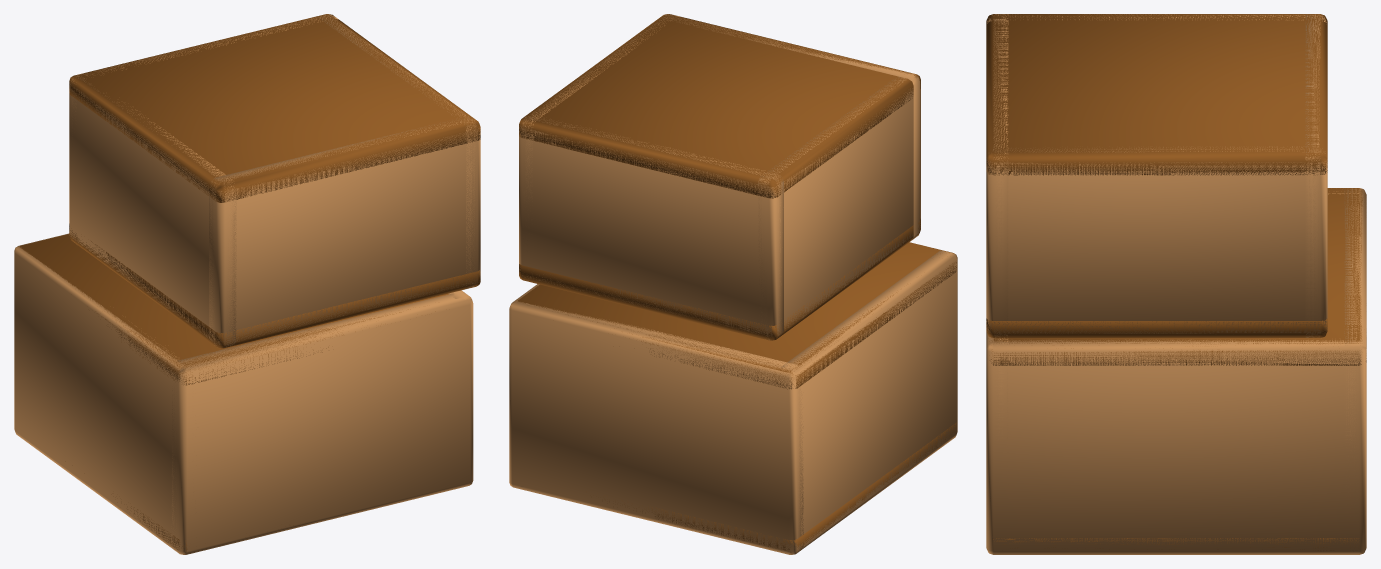
Rendered from v_crate_stack.glb.
3 renders of one model, left to right at view 1: azimuth 30°, elevation 25°; view 2: azimuth 150°, elevation 25°; view 3: azimuth 270°, elevation 25°, orthographic. The views are drawn at different scales.
Visible parts, largest first — view 1: GenCrate; view 2: GenCrate; view 3: GenCrate.
Boxes of the visible parts, x1,y1,x2,y2 form: GenCrate: (14, 14, 480, 554); GenCrate: (509, 14, 957, 554); GenCrate: (986, 14, 1366, 554).
Bounding box in the file's own units: 0.8 × 0.92 × 0.78.
